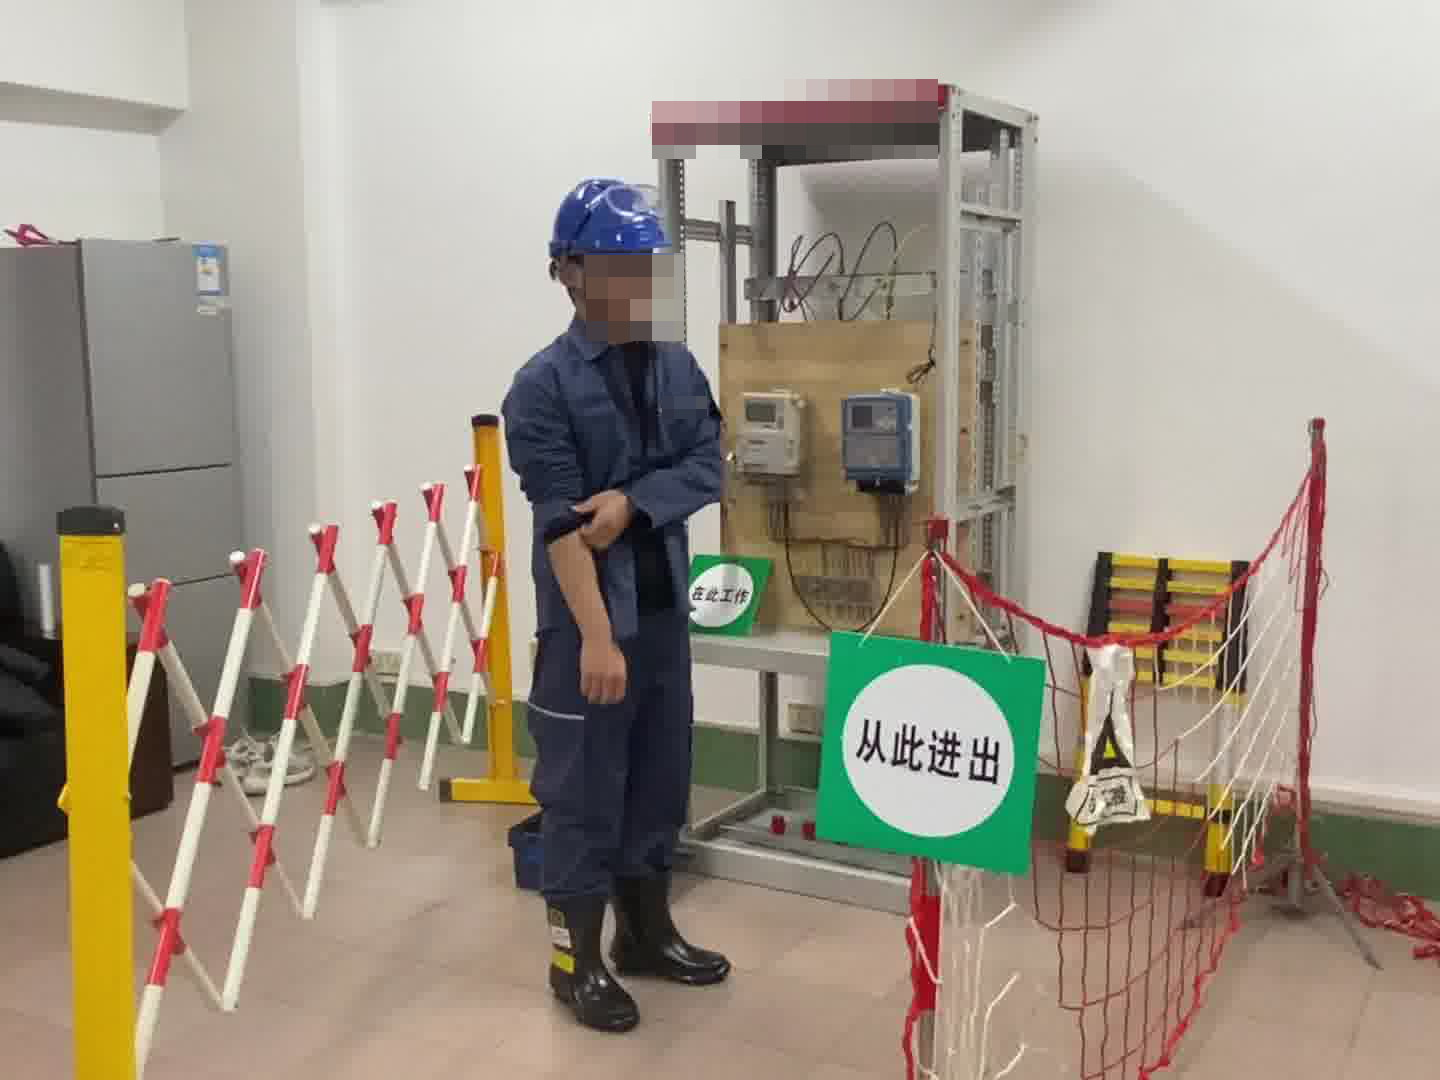downsuit: (519, 571, 699, 926)
halt: (544, 173, 673, 334)
hand: (576, 488, 634, 551), (582, 645, 634, 702)
inear: (551, 253, 603, 305)
intosign: (821, 636, 1034, 870)
person: (493, 167, 742, 1021)
shoe: (618, 879, 731, 987), (544, 903, 637, 1020)
upsuit: (504, 323, 725, 568)
worksign: (687, 557, 761, 633)
wrongsuit: (598, 339, 685, 616)
wrongtop: (540, 528, 632, 702)
